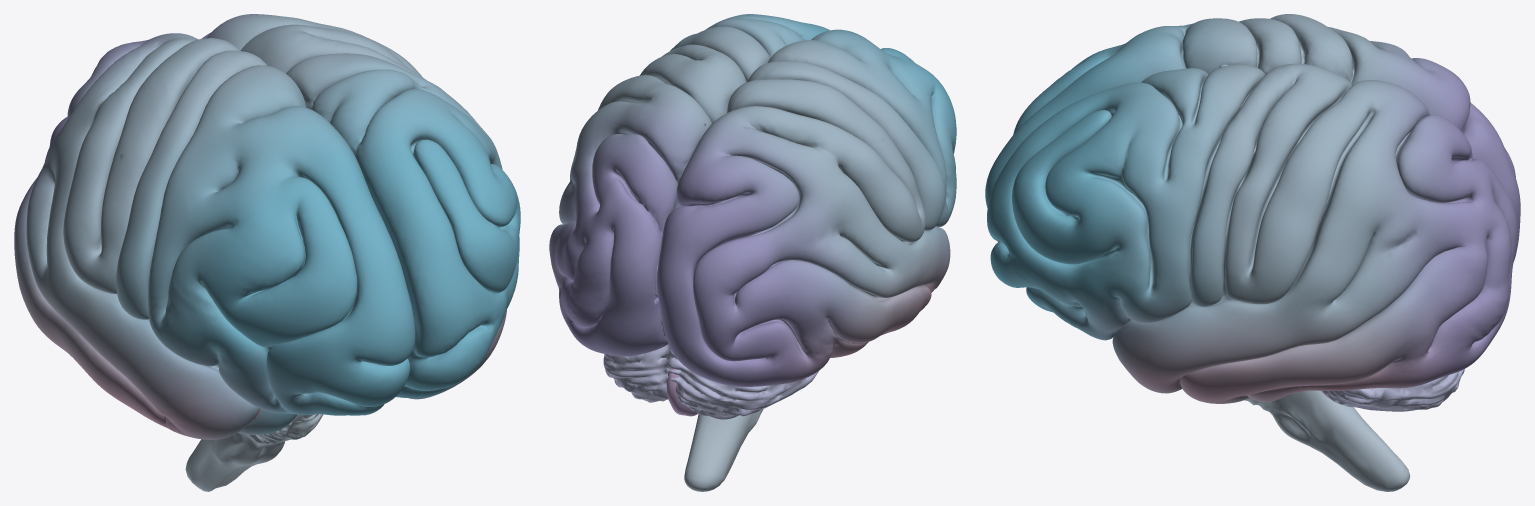
The model's file is cortex-brain-v2.glb.
The picture shows the model from 3 angles, left to right: view 1: azimuth 30°, elevation 25°; view 2: azimuth 150°, elevation 25°; view 3: azimuth 270°, elevation 25°; orthographic projection. The views are drawn at different scales.
Parts seen in each view (by area): view 1: Cortex_L, Cortex_R, Brainstem; view 2: Cortex_L, Cortex_R, Cerebellar_hemispheres, Brainstem, Cerebellar_vermis; view 3: Cortex_R, Cortex_L, Brainstem, Cerebellar_hemispheres.
Boxes of the visible parts, <box> form: Cortex_L: <box>14,33,415,439</box>; Cortex_R: <box>201,14,520,399</box>; Brainstem: <box>185,414,323,491</box>; Cortex_L: <box>655,29,956,386</box>; Cortex_R: <box>549,14,829,356</box>; Cerebellar_hemispheres: <box>603,344,818,419</box>; Brainstem: <box>684,409,763,491</box>; Cerebellar_vermis: <box>666,368,697,416</box>; Cortex_R: <box>987,63,1517,403</box>; Cortex_L: <box>985,14,1520,261</box>; Brainstem: <box>1244,390,1409,491</box>; Cerebellar_hemispheres: <box>1321,369,1464,411</box>.
Bounding box in the file's own units: 5.07 × 5.87 × 6.39.
